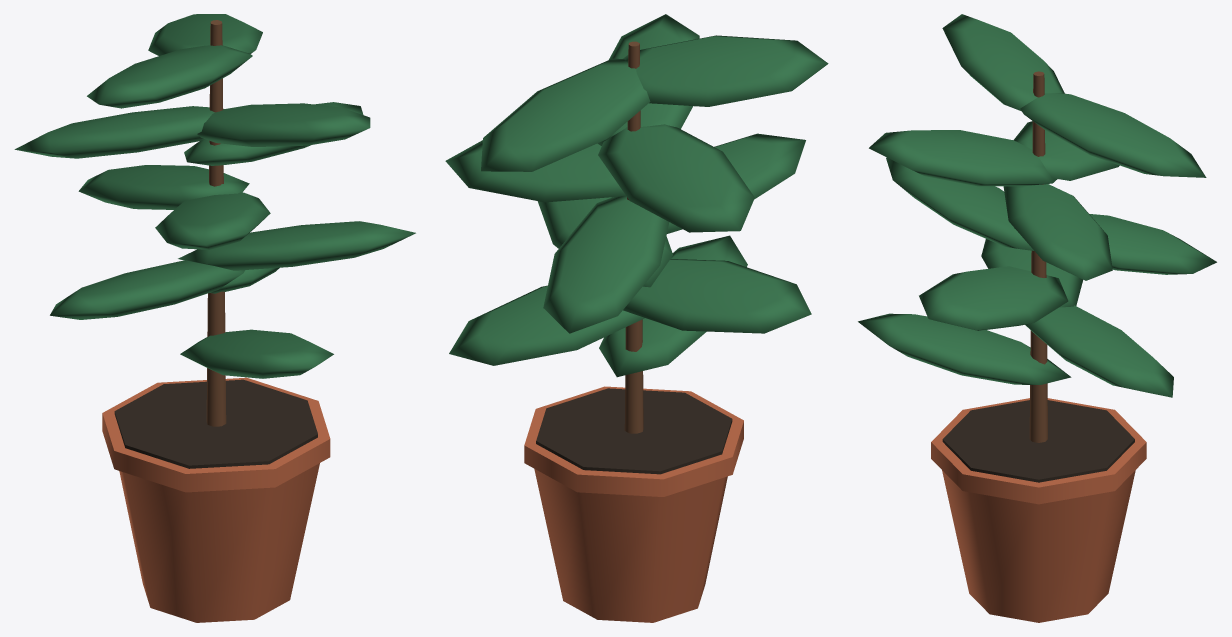
Rendered from potted-plant-lod1.glb.
3 views of the same model, side by side, from view 1: azimuth 30°, elevation 25°; view 2: azimuth 150°, elevation 25°; view 3: azimuth 270°, elevation 25° (orthographic). The views are drawn at different scales.
Parts seen in each view (by area): view 1: pot, soil, pot-rim, leaf-3, leaf-7, leaf-2, leaf-8, leaf-10, leaf-0, leaf-4, leaf-5, leaf-9 (+3 smaller); view 2: pot, soil, leaf-7, leaf-4, leaf-9, leaf-10, leaf-2, leaf-1, pot-rim, leaf-6, leaf-0, leaf-5 (+3 smaller); view 3: pot, soil, leaf-0, leaf-9, leaf-8, leaf-3, leaf-6, leaf-1, pot-rim, leaf-10, leaf-5, leaf-4 (+3 smaller).
Boxes of the visible parts, <box> form: pot: <box>119,463,319,622</box>; soil: <box>114,379,317,468</box>; pot-rim: <box>102,377,330,492</box>; leaf-3: <box>178,221,415,270</box>; leaf-7: <box>14,106,224,158</box>; leaf-2: <box>50,260,245,319</box>; leaf-8: <box>197,103,370,146</box>; leaf-10: <box>87,45,252,108</box>; leaf-0: <box>180,329,333,378</box>; leaf-4: <box>78,165,249,209</box>; leaf-5: <box>155,192,270,249</box>; leaf-9: <box>148,14,262,55</box>; pot: <box>534,469,727,622</box>; soil: <box>536,388,732,474</box>; leaf-7: <box>598,124,754,232</box>; leaf-4: <box>543,196,669,333</box>; leaf-9: <box>481,58,650,171</box>; leaf-10: <box>623,35,828,106</box>; leaf-2: <box>623,259,811,333</box>; leaf-1: <box>449,285,644,365</box>; pot-rim: <box>524,386,743,496</box>; leaf-6: <box>445,140,625,202</box>; leaf-0: <box>599,235,747,377</box>; leaf-5: <box>667,133,805,233</box>; pot: <box>942,470,1135,622</box>; soil: <box>942,400,1134,482</box>; leaf-0: <box>858,313,1071,384</box>; leaf-9: <box>1020,93,1206,177</box>; leaf-8: <box>869,130,1057,186</box>; leaf-3: <box>919,266,1068,330</box>; leaf-6: <box>1003,184,1112,280</box>; leaf-1: <box>1025,305,1173,397</box>; pot-rim: <box>931,398,1146,504</box>; leaf-10: <box>942,14,1064,111</box>; leaf-5: <box>886,157,1033,250</box>; leaf-4: <box>1014,214,1216,274</box>.
Bounding box in the file's own units: 0.7847 × 1.23 × 0.7753.
